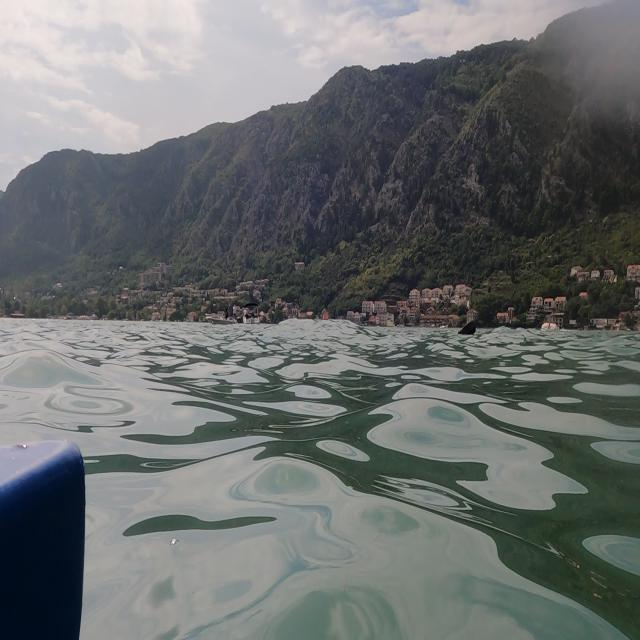buoy: (451, 316, 485, 348)
